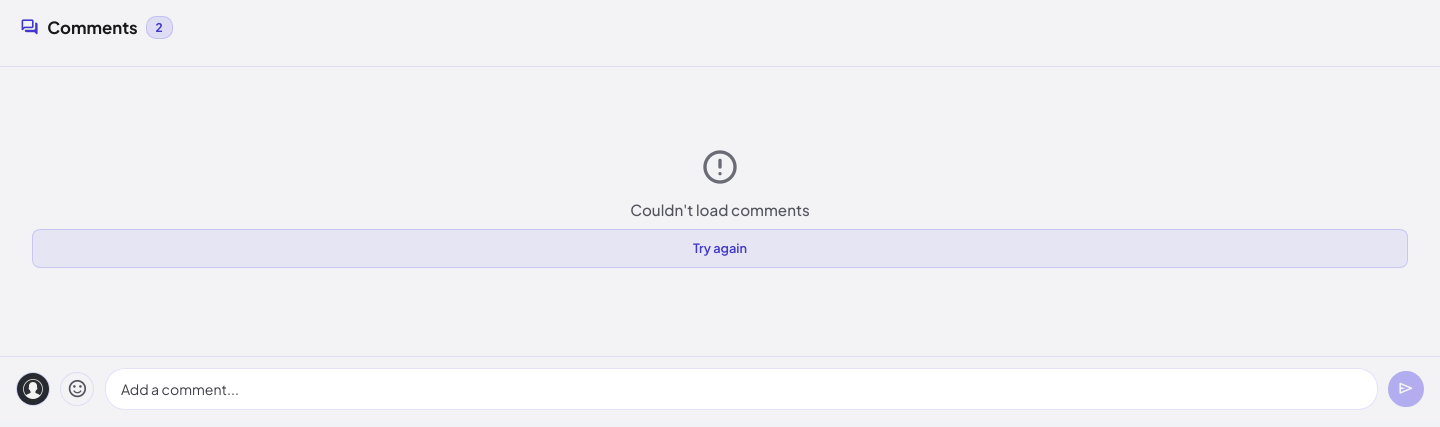
Test: PostCommentsPanel › shows an error with a working retry when the first page fails
Click the button "Try again".
click(720, 248)  # box [32,229,1408,268]
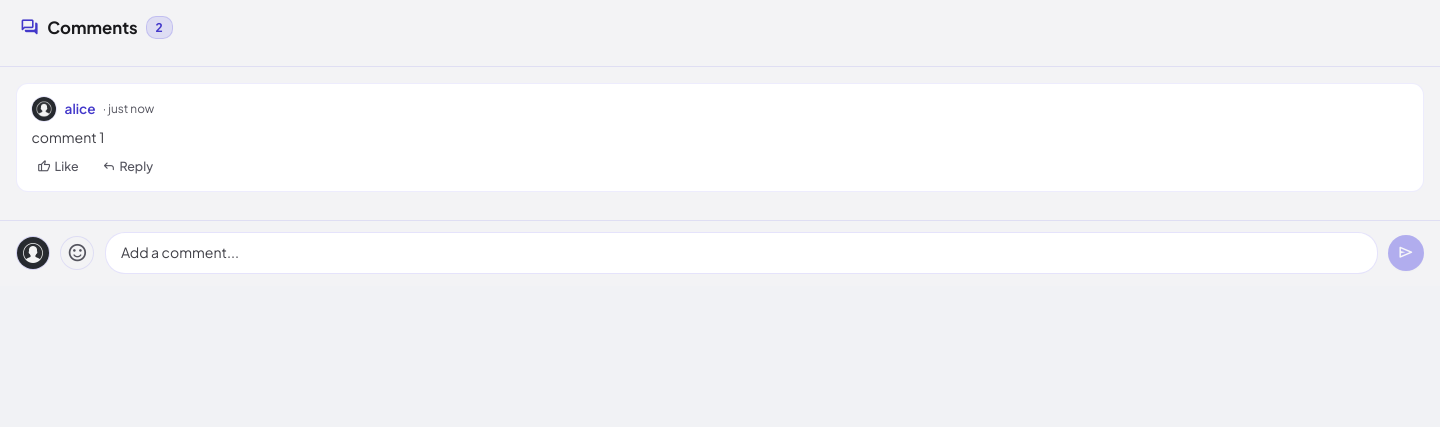
Expected: the text "comment 1" is shown, [31,128,104,146]
